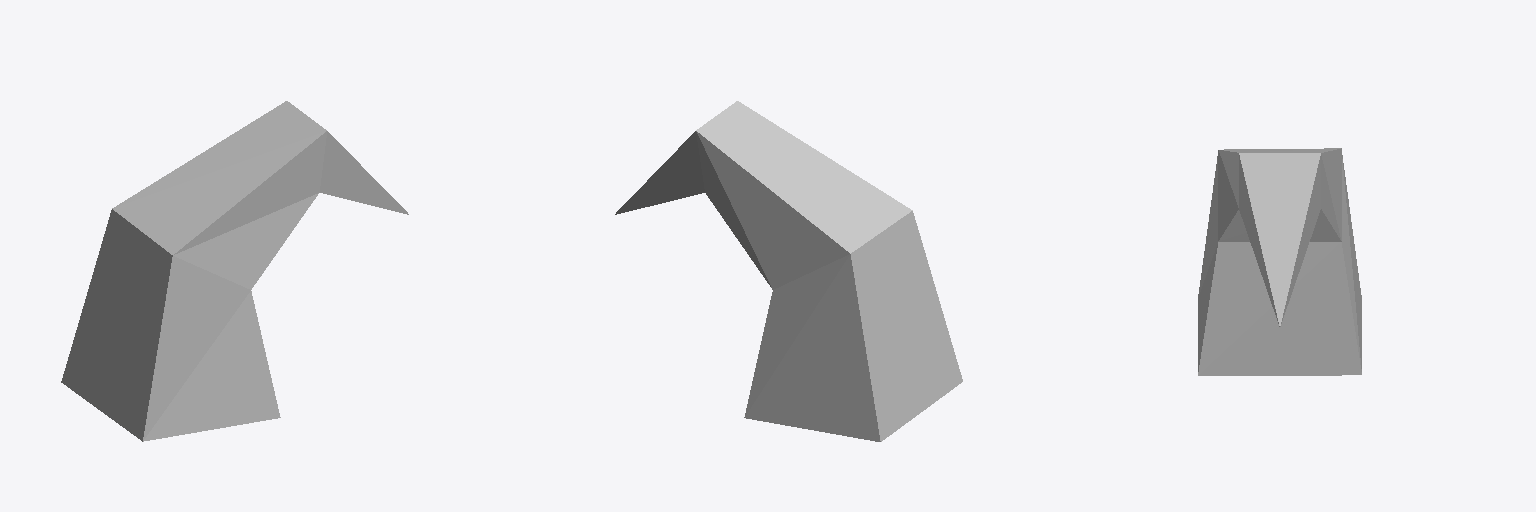
Rendered from skeletal_000011.obj.
3 views of the same model, side by side, from view 1: azimuth 30°, elevation 25°; view 2: azimuth 150°, elevation 25°; view 3: azimuth 270°, elevation 25° (orthographic).
Visible parts, largest first — view 1: Cube; view 2: Cube; view 3: Cube.
Part boxes in pixels (bbox=[...]): Cube: bbox=[61, 101, 408, 441]; Cube: bbox=[615, 101, 962, 441]; Cube: bbox=[1198, 148, 1361, 375].
Size of the model in its own units: 4.34 by 3.44 by 2.